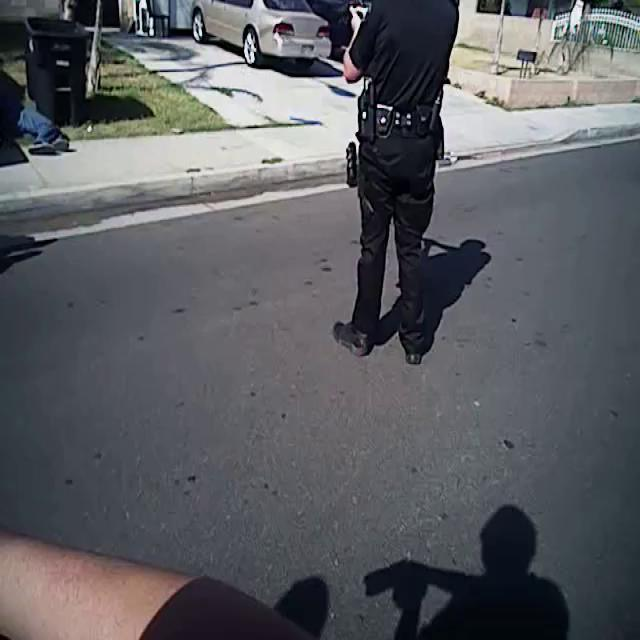gun: (333, 3, 374, 37)
